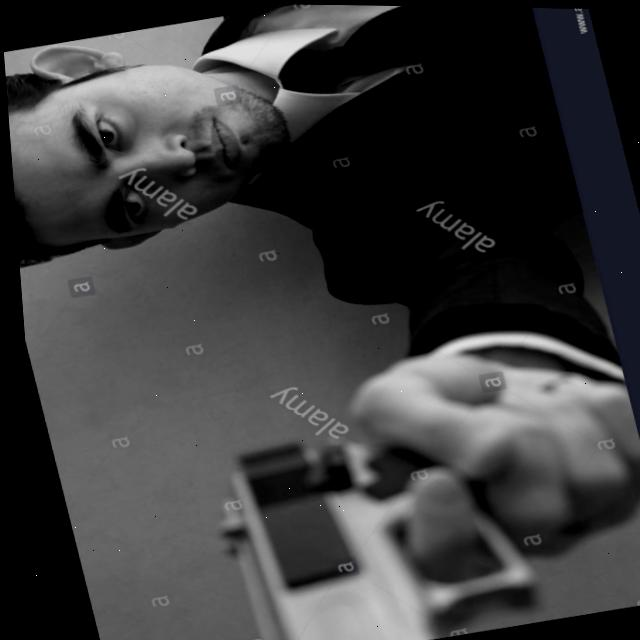pistol: (195, 407, 538, 640)
